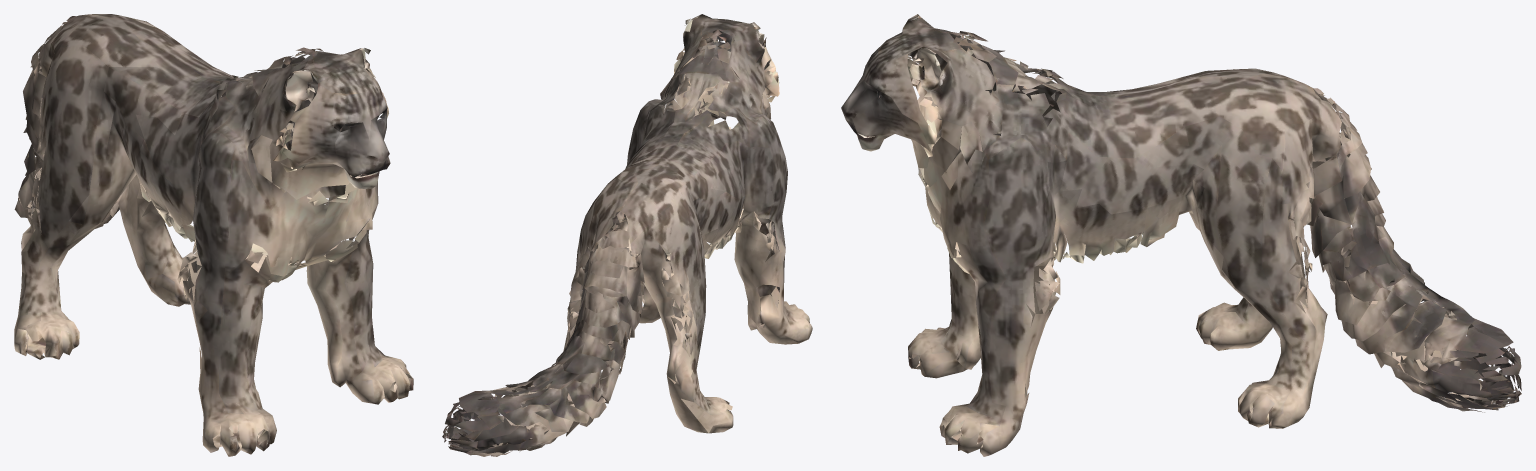
File: snow-leopard-rig.glb
3 renders of one model, left to right at view 1: azimuth 30°, elevation 25°; view 2: azimuth 150°, elevation 25°; view 3: azimuth 270°, elevation 25°, orthographic. The views are drawn at different scales.
Visible parts, largest first — view 1: snow-leopard-rig.raw; view 2: snow-leopard-rig.raw; view 3: snow-leopard-rig.raw.
Boxes of the visible parts, bbox=[...] form: snow-leopard-rig.raw: bbox=[14, 14, 413, 456]; snow-leopard-rig.raw: bbox=[442, 14, 812, 456]; snow-leopard-rig.raw: bbox=[841, 14, 1521, 456].
Size of the model in its own units: 0.5998 by 0.8001 by 1.31.
Materials: 1 (1 with a texture image).
